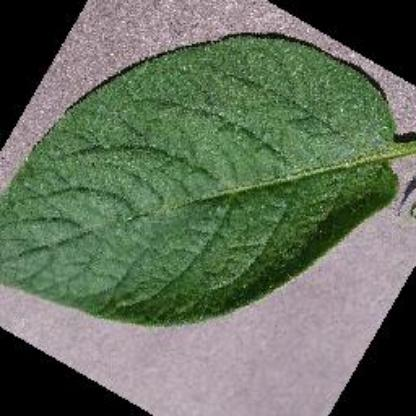Healthy-plant: (2, 32, 416, 326)
